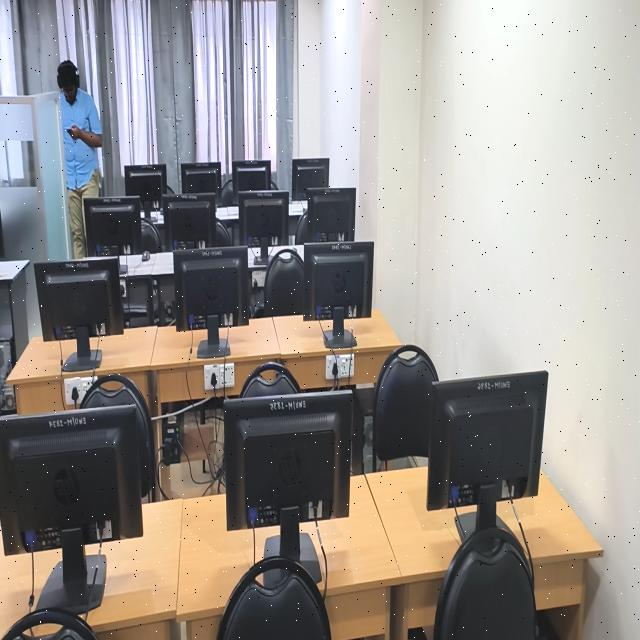Chair: (216, 507, 332, 640), (434, 509, 537, 640), (82, 375, 154, 497), (373, 346, 439, 461), (1, 608, 99, 640), (264, 249, 304, 315), (239, 362, 301, 397), (141, 218, 162, 252), (215, 218, 232, 245), (295, 208, 308, 243)
Cpu: (0, 342, 14, 411), (363, 417, 374, 473), (390, 457, 427, 469), (377, 459, 384, 469)
Monitor: (0, 404, 142, 556), (225, 392, 352, 561), (427, 371, 548, 532), (35, 258, 124, 371), (304, 243, 373, 346), (176, 259, 245, 330), (84, 198, 143, 256), (239, 191, 289, 259), (164, 195, 218, 250), (305, 188, 356, 241), (125, 164, 169, 209), (181, 162, 222, 201), (292, 158, 329, 200), (233, 166, 271, 192)
